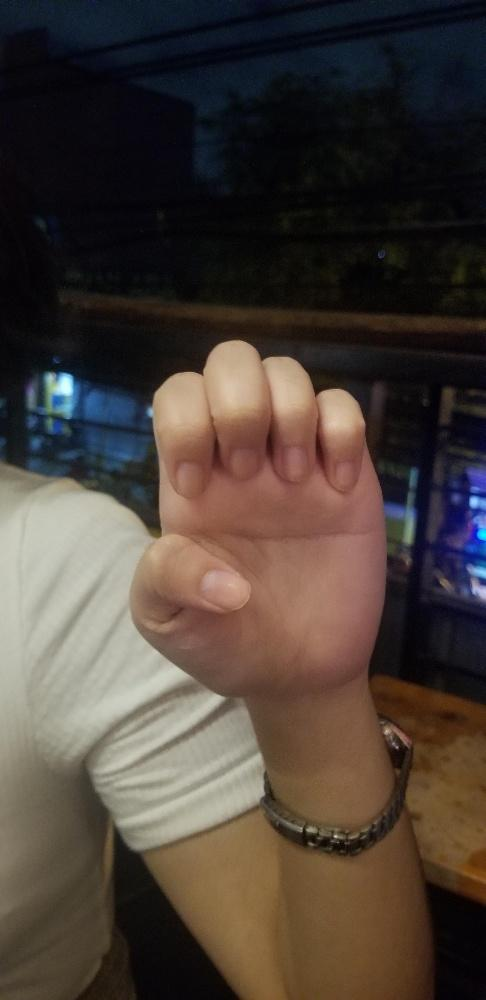e: (129, 338, 386, 698)
